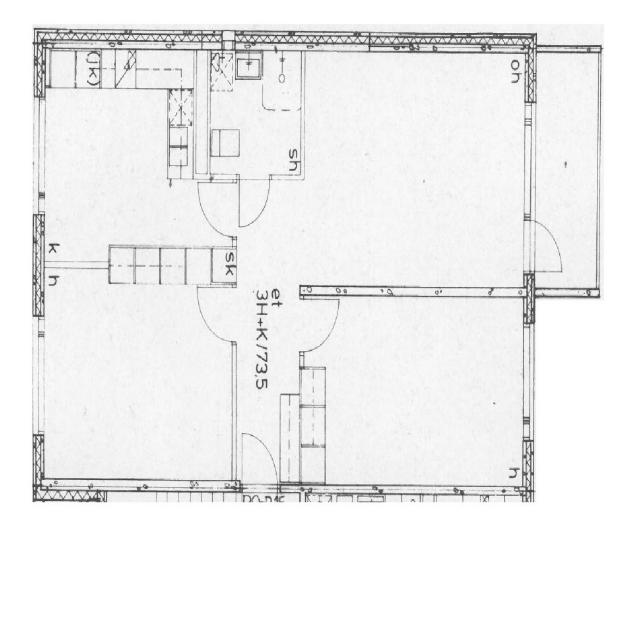door: (523, 220, 569, 271), (195, 287, 236, 342), (242, 483, 277, 547), (242, 429, 277, 493), (196, 183, 236, 237), (299, 298, 338, 351), (239, 174, 270, 225)
